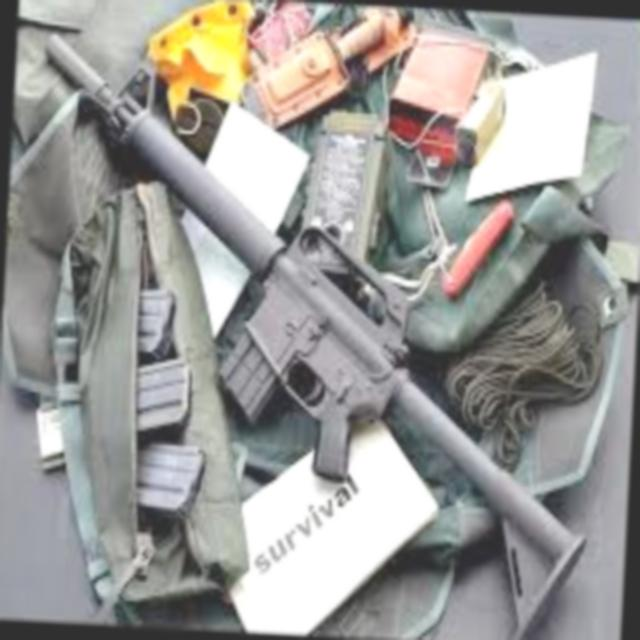m16: (126, 92, 546, 540)
